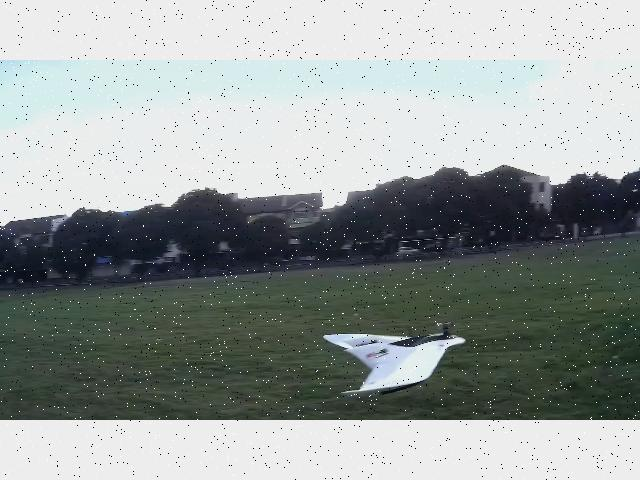Anti-Drone: (322, 322, 466, 397)
